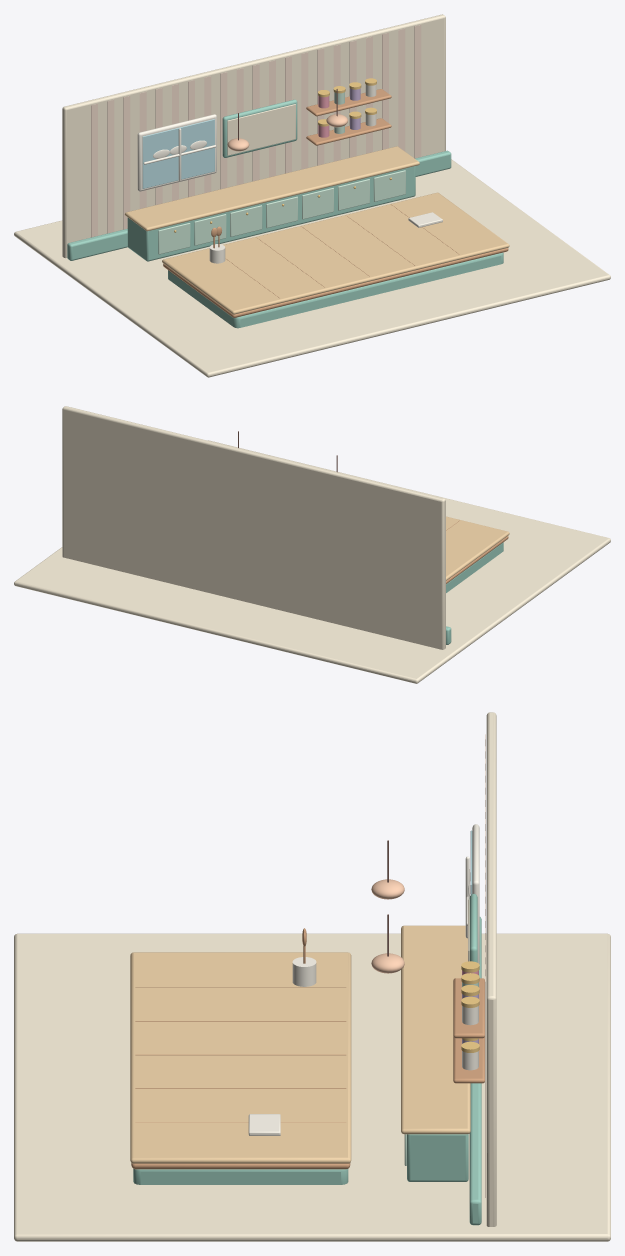
File: shop.glb
3 views of the same model, one above another, from view 1: azimuth 30°, elevation 25°; view 2: azimuth 150°, elevation 25°; view 3: azimuth 270°, elevation 25° (orthographic). The views are drawn at different scales.
Visible parts, largest first — view 1: Shop cream, Shop board, Shop wall, Shop mint, Shop mintlight, Shop wood, Shop glass, Shop white, Shop gold; view 2: Shop cream, Shop board, Shop mint; view 3: Shop cream, Shop board, Shop mint, Shop wood, Shop white, Shop peach, Shop gold.
Part boxes in pixels (left/top/right/bottom): Shop cream: left=14, top=14, right=610, bottom=377; Shop board: left=124, top=146, right=509, bottom=314; Shop wall: left=91, top=24, right=421, bottom=237; Shop mint: left=67, top=99, right=503, bottom=328; Shop mintlight: left=158, top=92, right=405, bottom=254; Shop wood: left=163, top=89, right=508, bottom=317; Shop glass: left=142, top=119, right=214, bottom=188; Shop white: left=137, top=84, right=442, bottom=263; Shop gold: left=174, top=78, right=391, bottom=232; Shop cream: left=14, top=406, right=610, bottom=683; Shop board: left=446, top=516, right=509, bottom=580; Shop mint: left=446, top=542, right=503, bottom=644; Shop cream: left=14, top=712, right=610, bottom=1241; Shop board: left=130, top=925, right=470, bottom=1163; Shop mint: left=133, top=893, right=481, bottom=1225; Shop wood: left=131, top=928, right=484, bottom=1169; Shop white: left=248, top=824, right=479, bottom=1135; Shop peach: left=371, top=879, right=404, bottom=973; Shop gold: left=461, top=961, right=479, bottom=1052.
Bounding box in the file's own units: 18 × 6.63 × 15.
